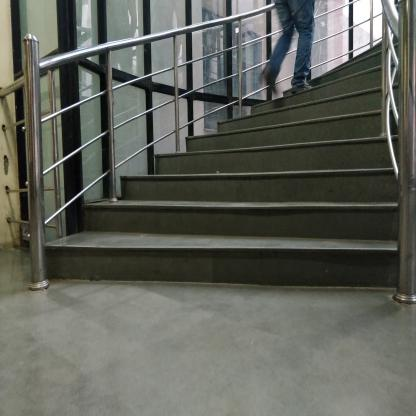stairs: (156, 157, 348, 307)
